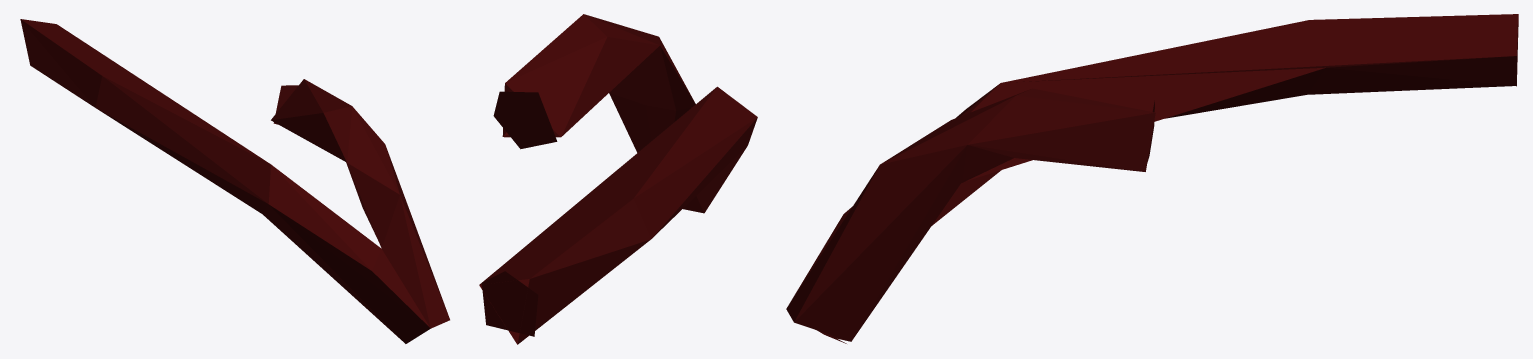
File: rear_left_steer_082.dae
The picture shows the model from 3 angles, left to right: view 1: azimuth 30°, elevation 25°; view 2: azimuth 150°, elevation 25°; view 3: azimuth 270°, elevation 25°; orthographic projection. The views are drawn at different scales.
Visible parts, largest first — view 1: node; view 2: node; view 3: node.
Boxes of the visible parts, bbox=[...] form: node: bbox=[20, 19, 449, 343]; node: bbox=[479, 14, 757, 344]; node: bbox=[786, 14, 1518, 343].
Size of the model in its own units: 0.0241 by 0.064 by 0.0242.
